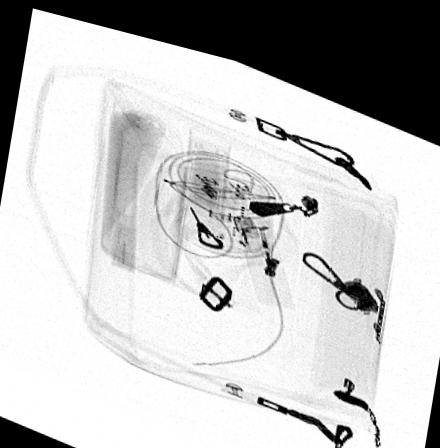Lighter: (232, 202, 296, 295)
